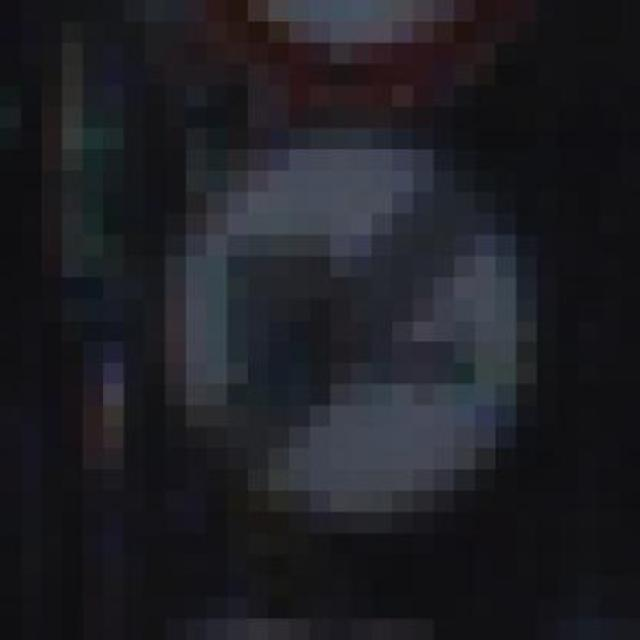Overtaking by trucks is prohibited: (82, 106, 600, 534)
